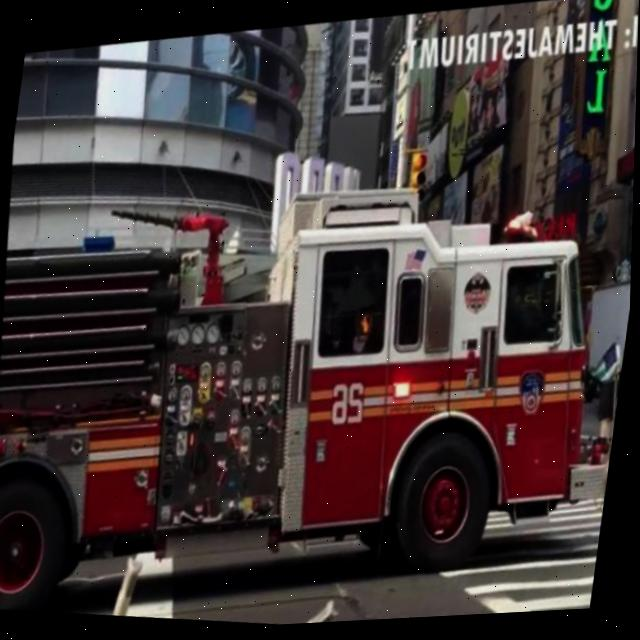emergency: (0, 114, 637, 640)
